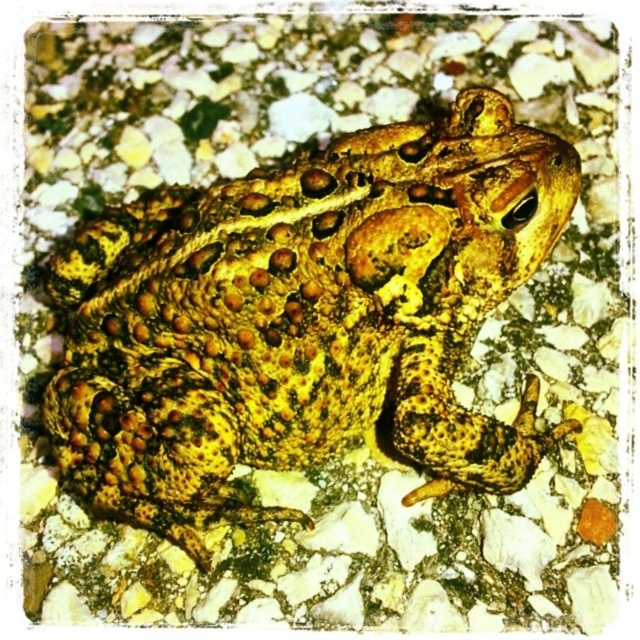Frog: (34, 87, 586, 576)
